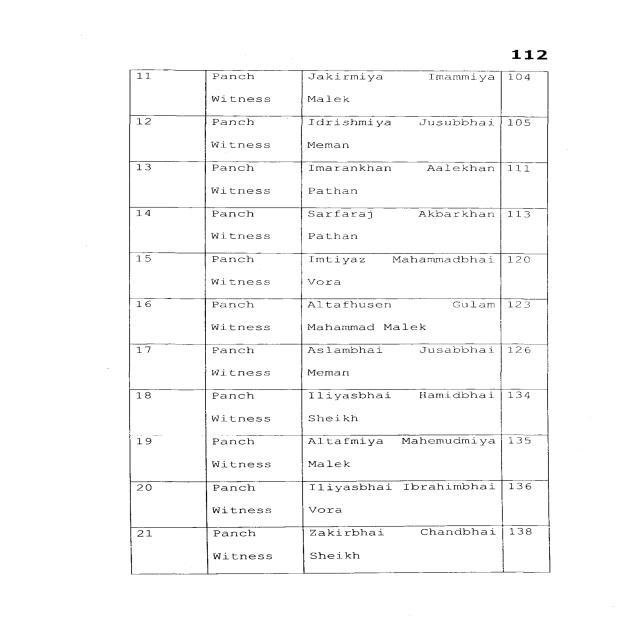page-number: (433, 1, 634, 64)
